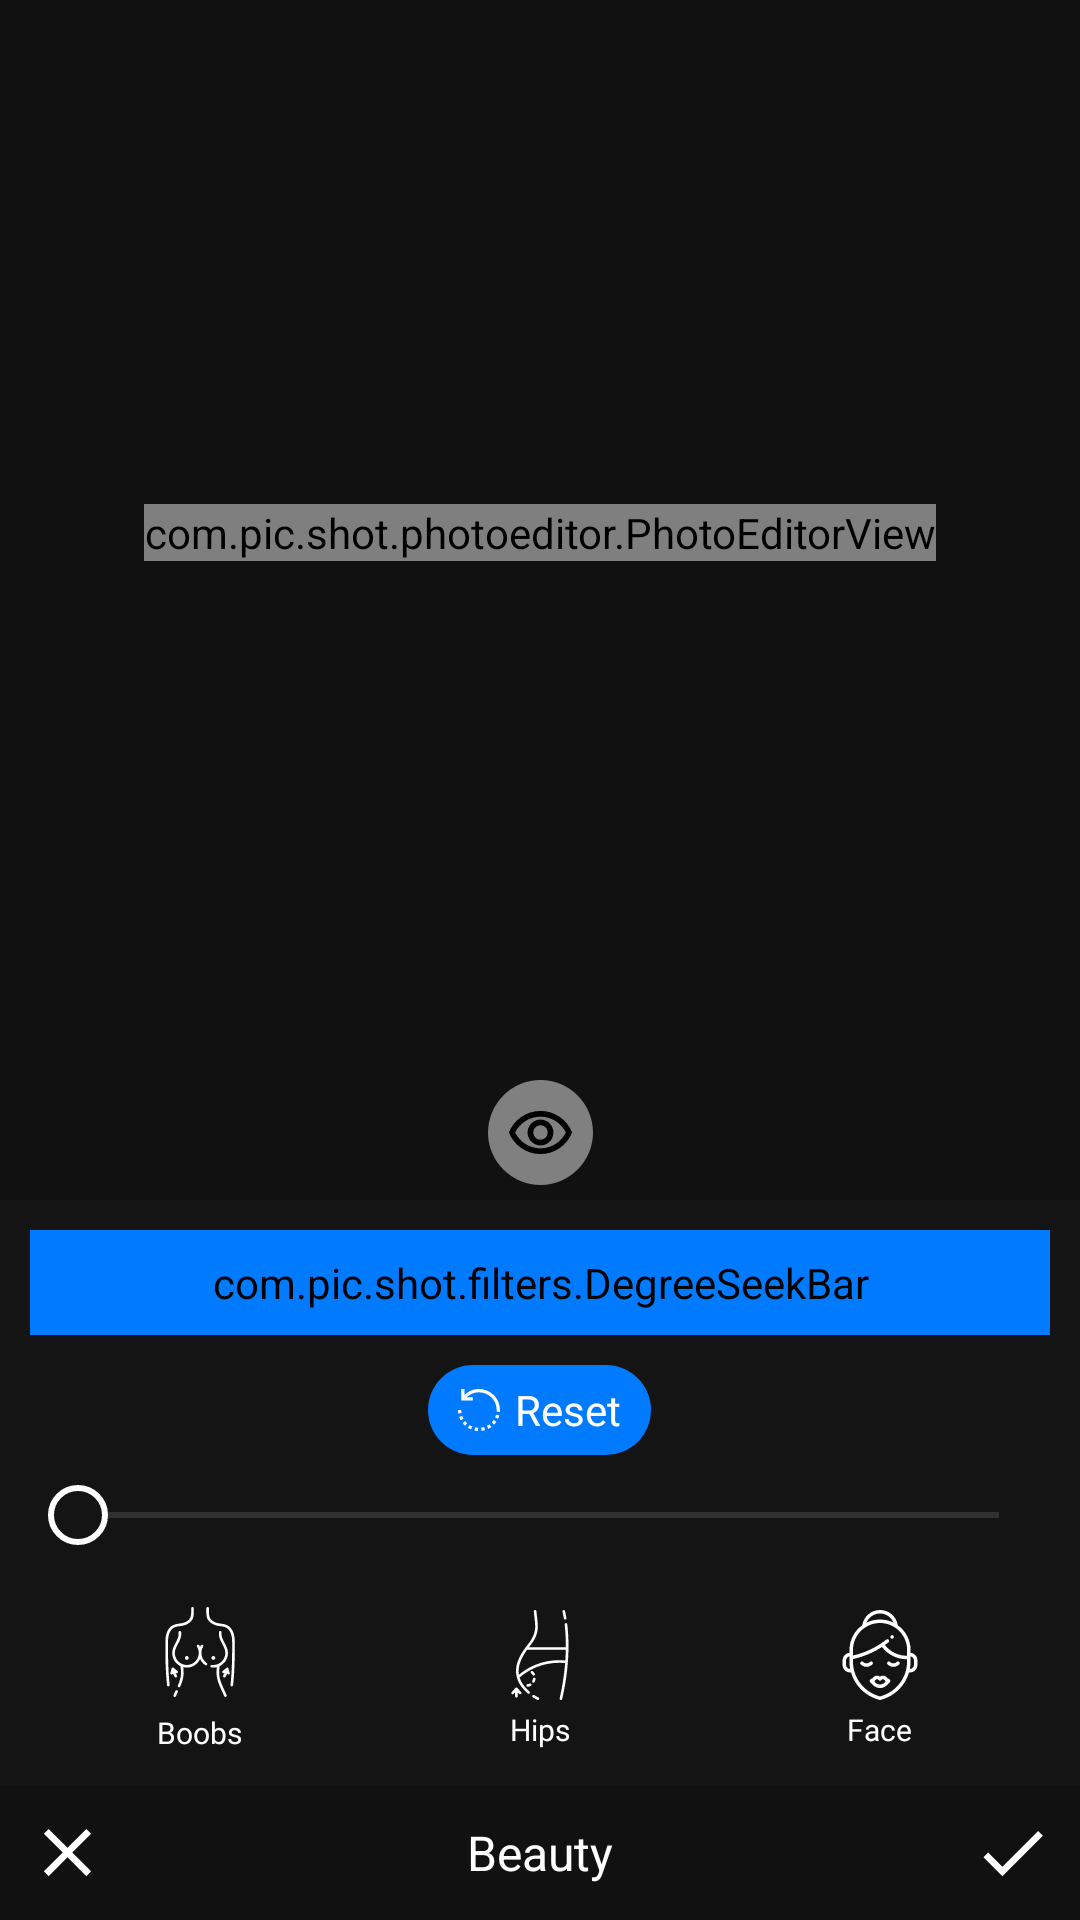

Named icons in this screenshot (1080 x 1920) and their centers, (x,y):
close: (67,1852)
compare: (540,1132)
done: (1013,1853)
rotate: (479,1410)
